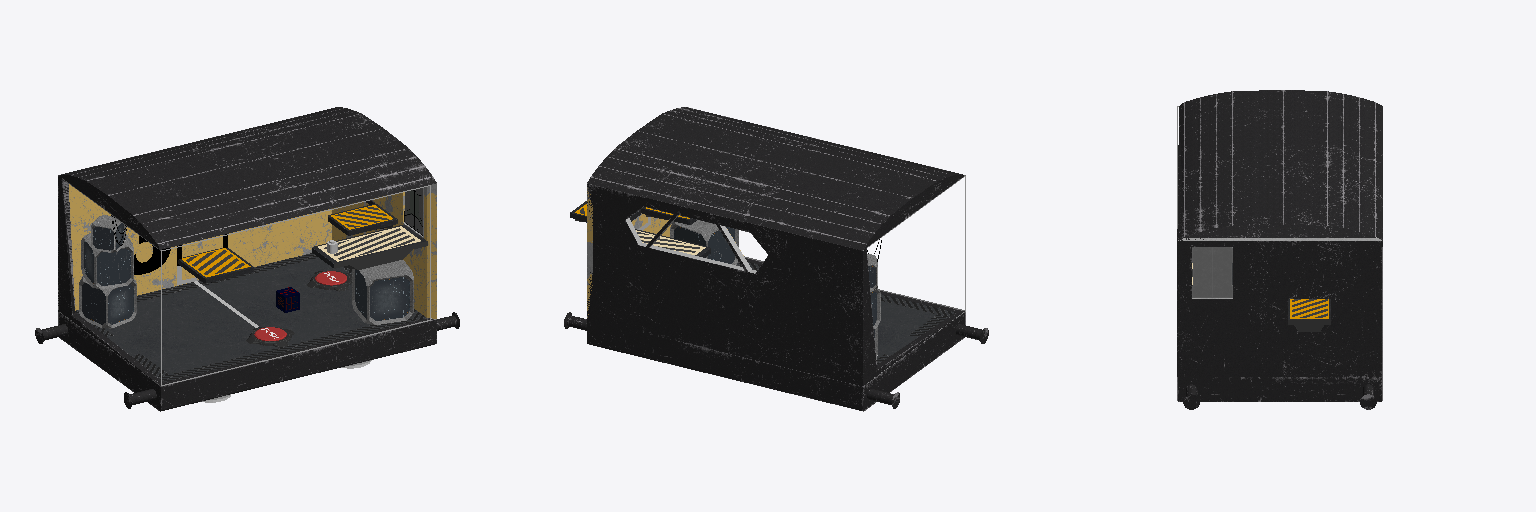
3 renders of one model, left to right at view 1: azimuth 30°, elevation 25°; view 2: azimuth 150°, elevation 25°; view 3: azimuth 270°, elevation 25°, orthographic.
Visible parts, largest first — view 1: F_floor_1.002, R_roof_1.002, W_back_wall_1.002, W_left_wall_1.002, Y_decoBox1_4.001, S_door_platform_1, Y_decoBox1_1.002, W_right_wall_down_1.002, Y_decoBox1_2.002, M_01_moving_platform_1.002, M_02_question_platform_2, Y_decoBox1_3.002 (+3 smaller); view 2: W_back_wall_1.002, R_roof_1.002, F_floor_1.002, W_left_wall_1.002, Y_decoBox1_4.001, S_corner_platform_1.001, W_right_wall_down_1.002; view 3: R_roof_1.002, W_right_wall_down_1.002, W_right_wall_left_1.002, F_floor_1.002, W_right_wall_up_1.002, M_02_question_platform_1, D_right_door_1.002, D_left_door_1.002, W_right_wall_right_1.002.
Boxes of the visible parts, x1,y1,x2,y2 form: F_floor_1.002: [35, 253, 459, 411]; R_roof_1.002: [64, 107, 436, 249]; W_back_wall_1.002: [69, 184, 331, 310]; W_left_wall_1.002: [58, 174, 163, 385]; Y_decoBox1_4.001: [352, 260, 413, 324]; S_door_platform_1: [312, 225, 427, 269]; Y_decoBox1_1.002: [79, 277, 136, 328]; W_right_wall_down_1.002: [332, 200, 436, 318]; Y_decoBox1_2.002: [81, 233, 133, 289]; M_01_moving_platform_1.002: [178, 248, 253, 283]; M_02_question_platform_2: [328, 204, 397, 235]; Y_decoBox1_3.002: [91, 215, 125, 252]; W_back_wall_1.002: [587, 184, 862, 385]; R_roof_1.002: [587, 107, 959, 249]; F_floor_1.002: [564, 258, 988, 411]; W_left_wall_1.002: [863, 174, 963, 385]; Y_decoBox1_4.001: [670, 220, 738, 264]; S_corner_platform_1.001: [635, 229, 710, 257]; W_right_wall_down_1.002: [587, 213, 671, 317]; R_roof_1.002: [1177, 90, 1382, 240]; W_right_wall_down_1.002: [1177, 298, 1382, 376]; W_right_wall_left_1.002: [1233, 247, 1382, 298]; F_floor_1.002: [1177, 263, 1382, 409]; W_right_wall_up_1.002: [1177, 238, 1382, 246]; M_02_question_platform_1: [1288, 299, 1330, 331]; D_right_door_1.002: [1192, 247, 1212, 297]; D_left_door_1.002: [1213, 247, 1232, 297]; W_right_wall_right_1.002: [1177, 247, 1191, 298].
Size of the model in its own units: 13.94 by 7.33 by 7.19.
18 materials, 12 textured.